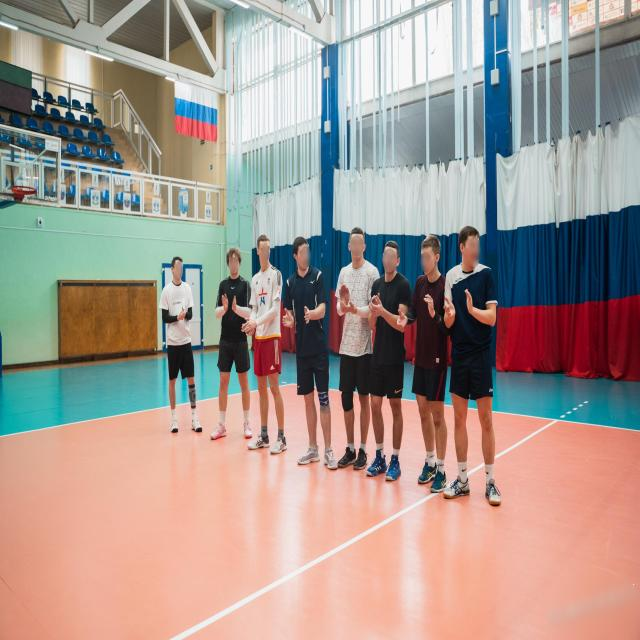Person: (446, 212, 502, 512), (364, 225, 409, 491), (335, 220, 379, 471), (414, 231, 452, 510), (248, 230, 290, 467), (297, 238, 335, 472), (159, 255, 206, 444), (215, 244, 253, 442)
